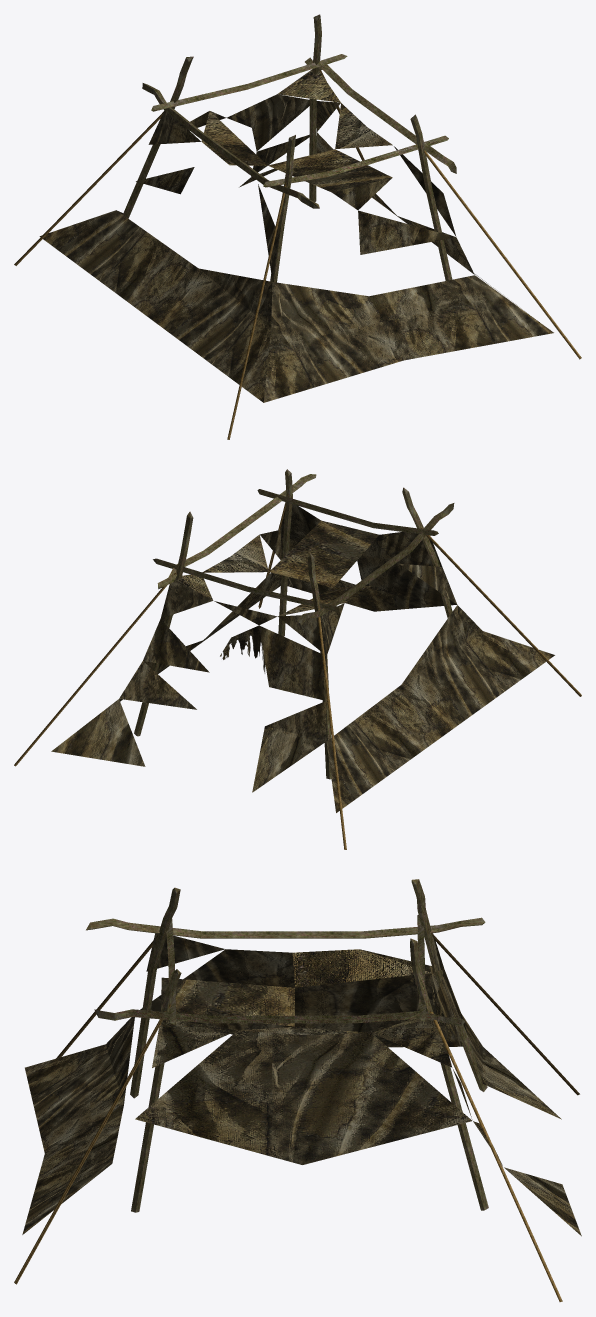
The model's file is schronienie2.glb.
The picture shows the model from 3 angles, top to bottom: view 1: azimuth 30°, elevation 25°; view 2: azimuth 150°, elevation 25°; view 3: azimuth 270°, elevation 25°; orthographic projection. The views are drawn at different scales.
Visible parts, largest first — view 1: zengin; view 2: zengin; view 3: zengin.
Boxes of the visible parts, x1,y1,x2,y2 form: zengin: (14, 14, 581, 439); zengin: (14, 469, 581, 849); zengin: (14, 879, 581, 1301).
Bounding box in the file's own units: 9.28 × 5.95 × 10.36.
5 materials, 5 textured.
